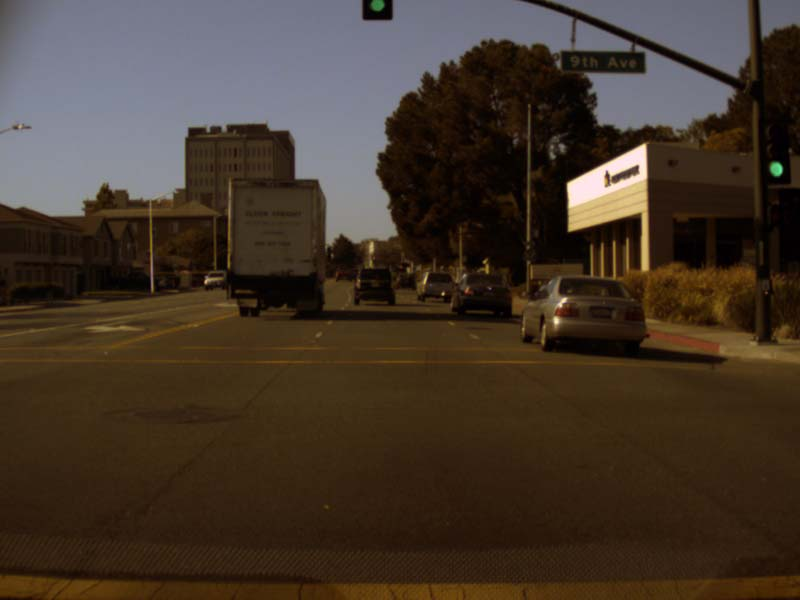Red: (372, 255, 376, 262)
